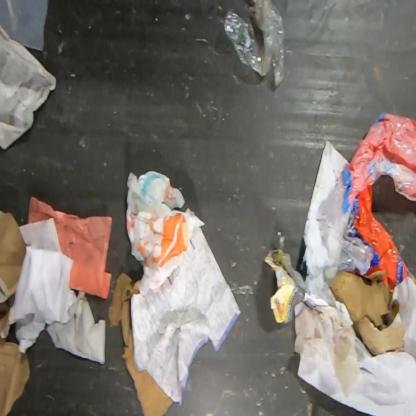cardboard: (106, 272, 174, 416), (329, 270, 405, 358), (0, 206, 28, 303), (0, 340, 31, 415)
soft_plastic: (336, 110, 415, 292), (222, 0, 289, 86), (0, 0, 51, 54)
